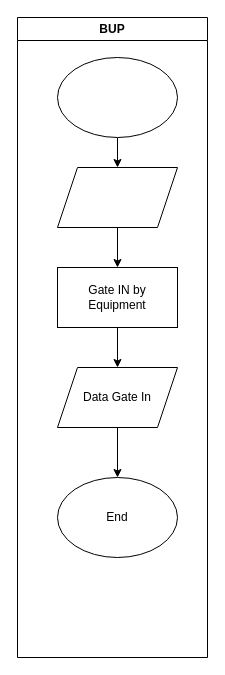
Some shapes in this 225 by 675 pixel diagram are drawn without their labels. Here are the shapes that lost their labels. From the top down, the centre of each, then its label:
At [117,97]: "Start".
At [117,197]: "Data Laycan".
